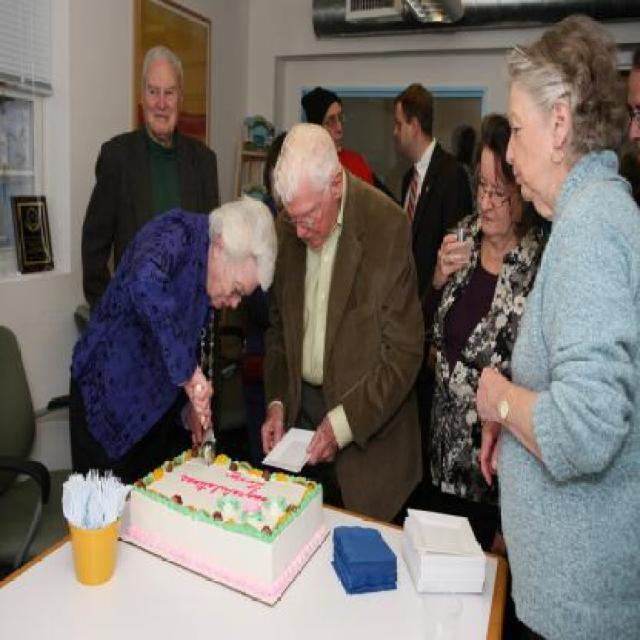Cake: (121, 440, 332, 600)
